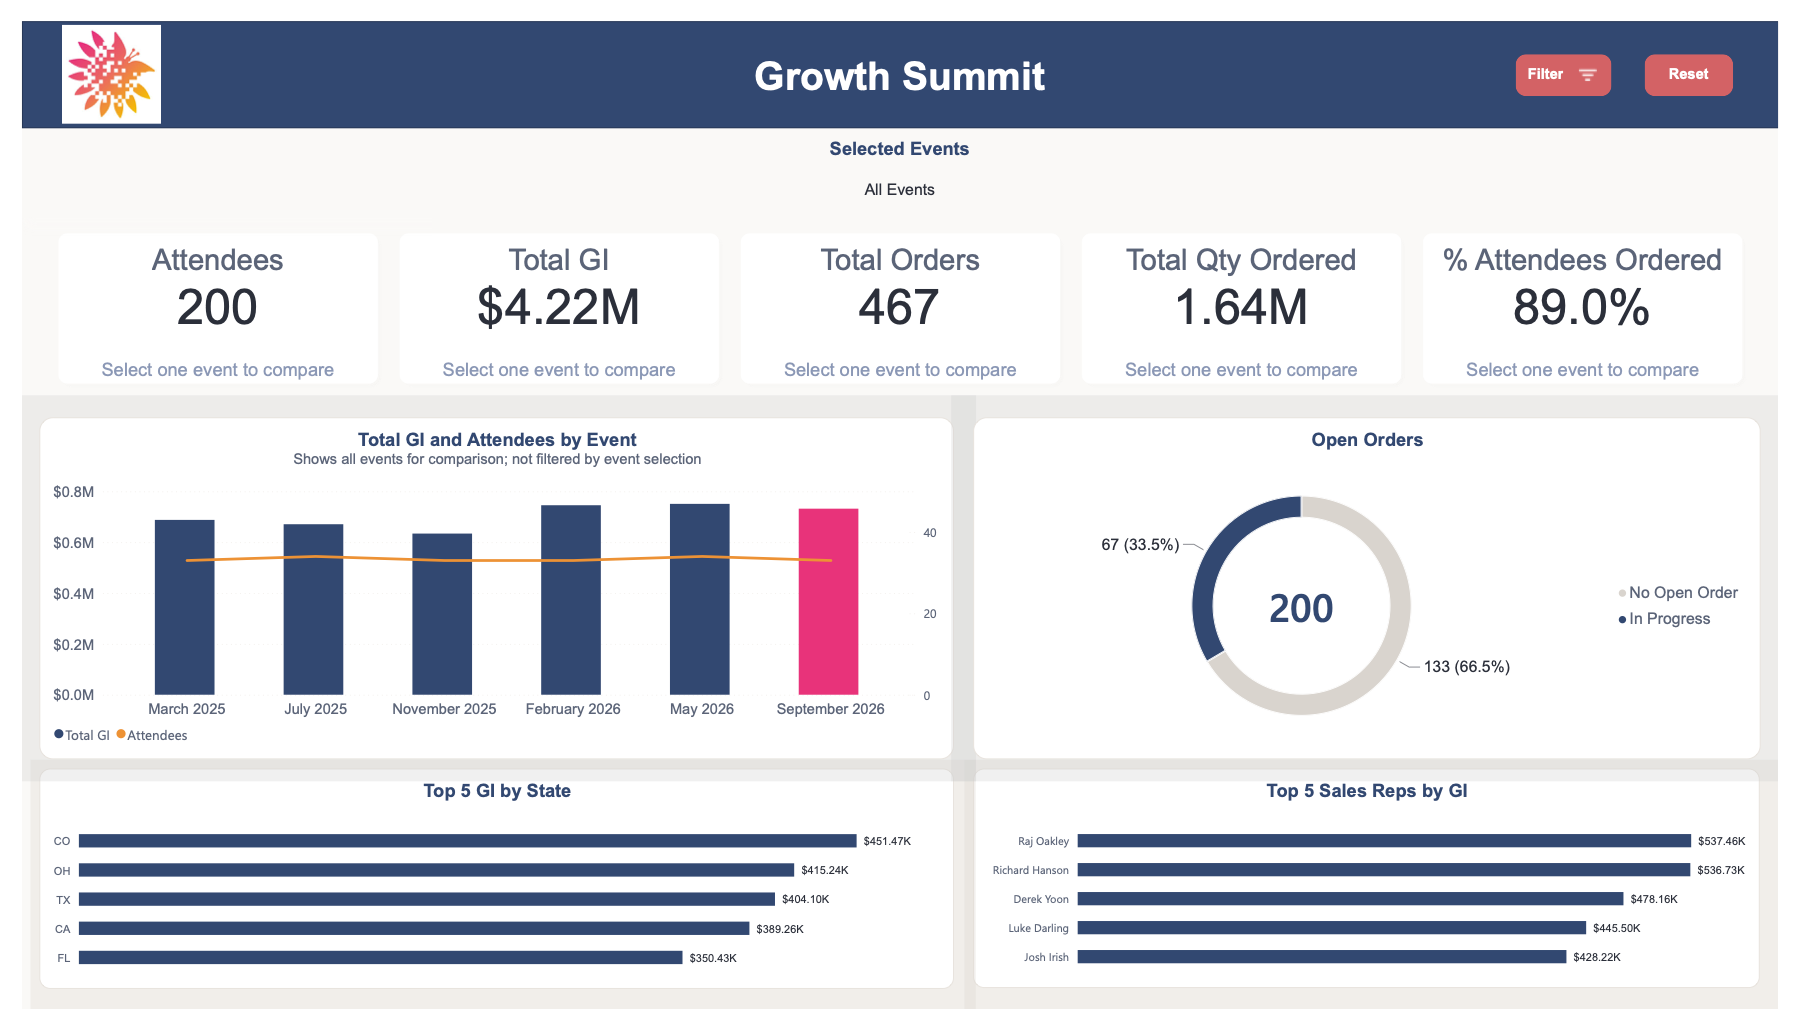

The page's visual inventory and layout, read from the dashboard file:
{"tool":"powerbi","page":{"name":"Overview","canvas":[1920,1080],"ordinal":0},"visuals":[{"type":"barChart","title":"Top 5 Sales Reps by GI","fields":{"Category":["dim_sales_rep.Sales Rep"],"Y":["_measures.Total GI"]},"box":[1040,817,860,240],"z":0},{"type":"slicer","title":"Event Label Slicer Mobile","fields":{"Values":["dim_event.Event Label"]},"box":[1608.1,24.2,293.1,88.7],"z":500,"group":"g1"},{"type":"shape","title":"Header Shape","box":[0,0,1920.6,116.8],"z":1000,"group":"g1"},{"type":"image","title":"Logo","box":[23.6,4.3,148,107.3],"z":2000,"group":"g1"},{"type":"textbox","title":"Header Title","box":[0,36.5,1920,72.9],"z":3000,"group":"g1"},{"type":"actionButton","title":"Reset Button","box":[1774.1,36.5,96.5,45.1],"z":4000,"group":"g1"},{"type":"barChart","title":"Top 5 GI by State","fields":{"Category":["dim_account.State"],"Y":["_measures.Total GI"]},"box":[19.3,817.3,999.7,240.3],"z":4500},{"type":"lineClusteredColumnComboChart","title":"Total GI and Attendees by Event","fields":{"Category":["dim_event.Event Label"],"Y":["_measures.Total GI"],"Y2":["_measures.Attendees"]},"box":[19.3,433.3,1000,373.3],"z":4750},{"type":"actionButton","title":"Filter Button","box":[1632.5,36.5,105.1,45.1],"z":5000,"group":"g1"},{"type":"donutChart","title":"Open Orders","fields":{"Category":["fact_attendance.Order Status"],"Y":["_measures.Attendees"]},"box":[1040.4,433.3,860.2,373.3],"z":5000},{"type":"cardVisual","title":"Overview Card","fields":{"Data":["_measures.Attendees","_measures.Total GI","_measures.Total Orders","_measures.Total Qty Ordered","_measures.% Attendees Ordered"]},"box":[20.1,214.3,1881.7,200],"z":5500},{"type":"card","title":"Selected Events","fields":{"Values":["_measures.Selected Events Label"]},"box":[0,115.6,1920,99.5],"z":5750},{"type":"group","id":"g1","title":"Header","box":[0,0,1920.6,116.8],"z":6000}]}

Visuals, with their boxes in screenshot pixels (x1, y1, x2, y2), scaled from the page's 1920x1080 canvas onto the 1800x1031 screenshot:
"Top 5 Sales Reps by GI" barChart: box=[975, 780, 1781, 1009]
"Event Label Slicer Mobile" slicer: box=[1508, 23, 1782, 108]
"Header Shape" shape: box=[0, 0, 1799, 112]
"Logo" image: box=[22, 4, 161, 107]
"Header Title" textbox: box=[0, 35, 1799, 104]
"Reset Button" actionButton: box=[1663, 35, 1754, 78]
"Top 5 GI by State" barChart: box=[18, 780, 955, 1010]
"Total GI and Attendees by Event" lineClusteredColumnComboChart: box=[18, 414, 956, 770]
"Filter Button" actionButton: box=[1530, 35, 1629, 78]
"Open Orders" donutChart: box=[975, 414, 1782, 770]
"Overview Card" cardVisual: box=[19, 205, 1783, 396]
"Selected Events" card: box=[0, 110, 1799, 205]
"Header" group: box=[0, 0, 1799, 112]
